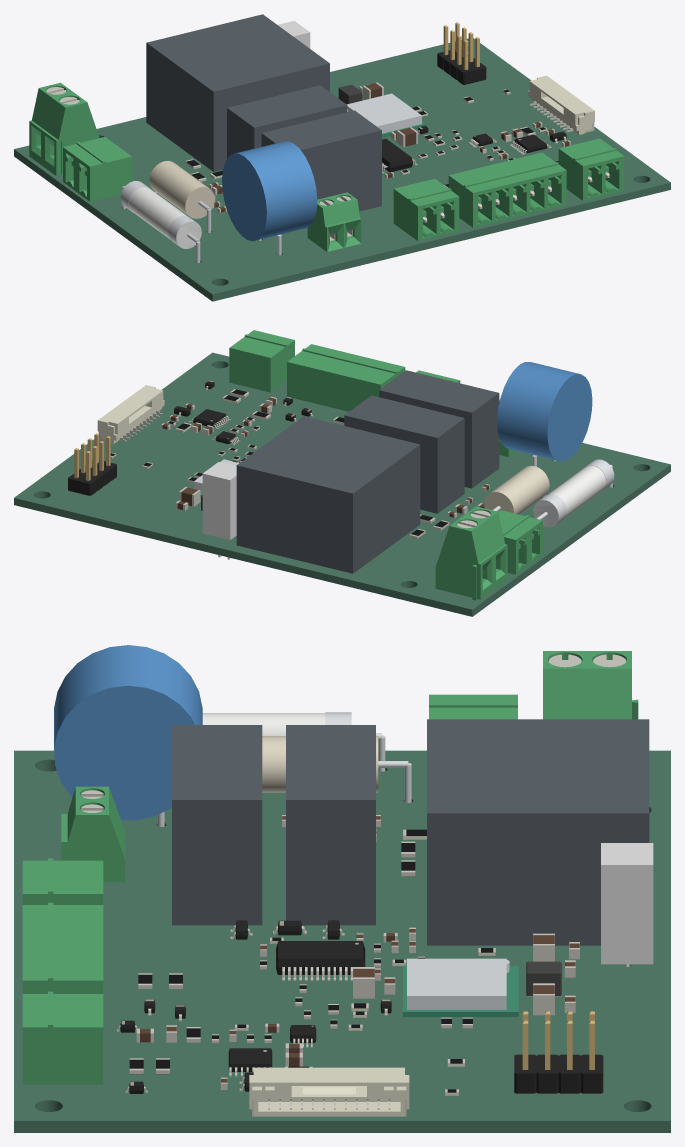
Rendered from pump-controller-compact.glb.
3 renders of one model, top to bottom at view 1: azimuth 30°, elevation 25°; view 2: azimuth 150°, elevation 25°; view 3: azimuth 270°, elevation 25°, orthographic. The views are drawn at different scales.
Visible parts, largest first — view 1: =>[0:1:1:128], =>[0:1:1:47], =>[0:1:1:27] (×2), =>[0:1:1:69], =>[0:1:1:15] (×2), =>[0:1:1:79], =>[0:1:1:23], =>[0:1:1:75], =>[0:1:1:21], =>[0:1:1:67], =>[0:1:1:41], =>[0:1:1:13] (+6 smaller); view 2: =>[0:1:1:128], =>[0:1:1:47], =>[0:1:1:27] (×2), =>[0:1:1:69], =>[0:1:1:79], =>[0:1:1:23], =>[0:1:1:15], =>[0:1:1:7], =>[0:1:1:67], =>[0:1:1:75], =>[0:1:1:13], =>[0:1:1:41] (+3 smaller); view 3: =>[0:1:1:128], =>[0:1:1:47], =>[0:1:1:27] (×2), =>[0:1:1:69], =>[0:1:1:15] (×2), =>[0:1:1:67], =>[0:1:1:79], =>[0:1:1:7], =>[0:1:1:23], =>[0:1:1:34], =>[0:1:1:21], =>[0:1:1:13] (+7 smaller).
Part boxes in pixels (x1,y1,x2,y2): =>[0:1:1:128]: (14, 38, 670, 301); =>[0:1:1:47]: (146, 14, 329, 171); =>[0:1:1:27] (×2): (227, 85, 381, 211); =>[0:1:1:69]: (222, 141, 317, 241); =>[0:1:1:15] (×2): (393, 138, 624, 241); =>[0:1:1:79]: (448, 152, 566, 227); =>[0:1:1:23]: (29, 82, 99, 175); =>[0:1:1:75]: (63, 137, 131, 201); =>[0:1:1:21]: (307, 192, 361, 251); =>[0:1:1:67]: (528, 75, 594, 134); =>[0:1:1:41]: (149, 161, 214, 218); =>[0:1:1:13]: (437, 22, 486, 84); =>[0:1:1:128]: (14, 352, 670, 616); =>[0:1:1:47]: (236, 416, 420, 573); =>[0:1:1:27] (×2): (344, 370, 499, 513); =>[0:1:1:69]: (497, 362, 592, 461); =>[0:1:1:79]: (287, 344, 405, 411); =>[0:1:1:23]: (435, 506, 507, 600); =>[0:1:1:15]: (229, 330, 294, 392); =>[0:1:1:7]: (202, 462, 236, 559); =>[0:1:1:67]: (97, 385, 164, 444); =>[0:1:1:75]: (498, 510, 542, 574); =>[0:1:1:13]: (68, 433, 116, 495); =>[0:1:1:41]: (484, 465, 549, 514); =>[0:1:1:128]: (14, 750, 670, 1132); =>[0:1:1:47]: (427, 719, 649, 945); =>[0:1:1:27] (×2): (172, 725, 375, 925); =>[0:1:1:69]: (54, 645, 202, 820); =>[0:1:1:15] (×2): (22, 858, 103, 1084); =>[0:1:1:67]: (249, 1067, 409, 1116); =>[0:1:1:79]: (22, 902, 103, 993); =>[0:1:1:7]: (601, 843, 653, 966); =>[0:1:1:23]: (543, 651, 638, 719); =>[0:1:1:34]: (407, 958, 506, 1009); =>[0:1:1:21]: (61, 786, 125, 882); =>[0:1:1:13]: (514, 1011, 603, 1093).
Bounding box in the file's own units: 0.1 × 0.0257 × 0.075.
